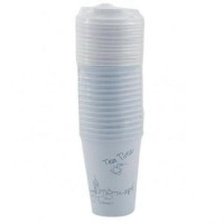paper_cup: (69, 0, 152, 219)
